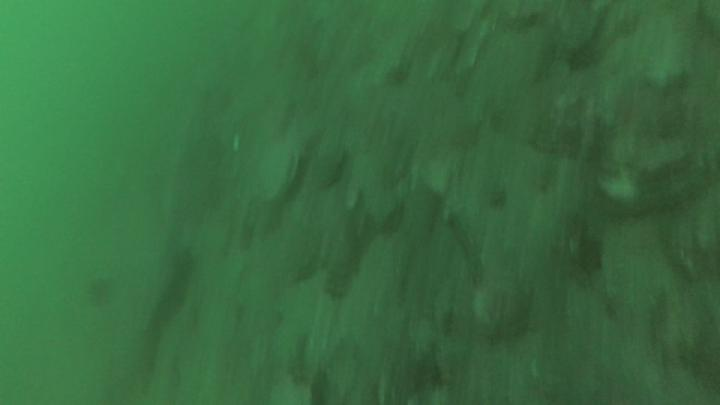scallop: (258, 143, 299, 204)
